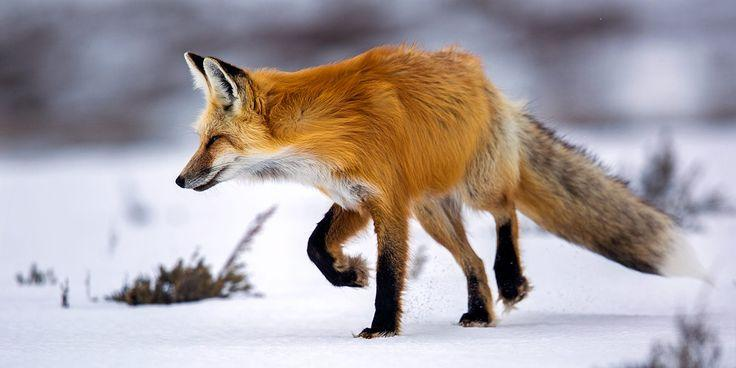fox: (174, 44, 709, 346)
